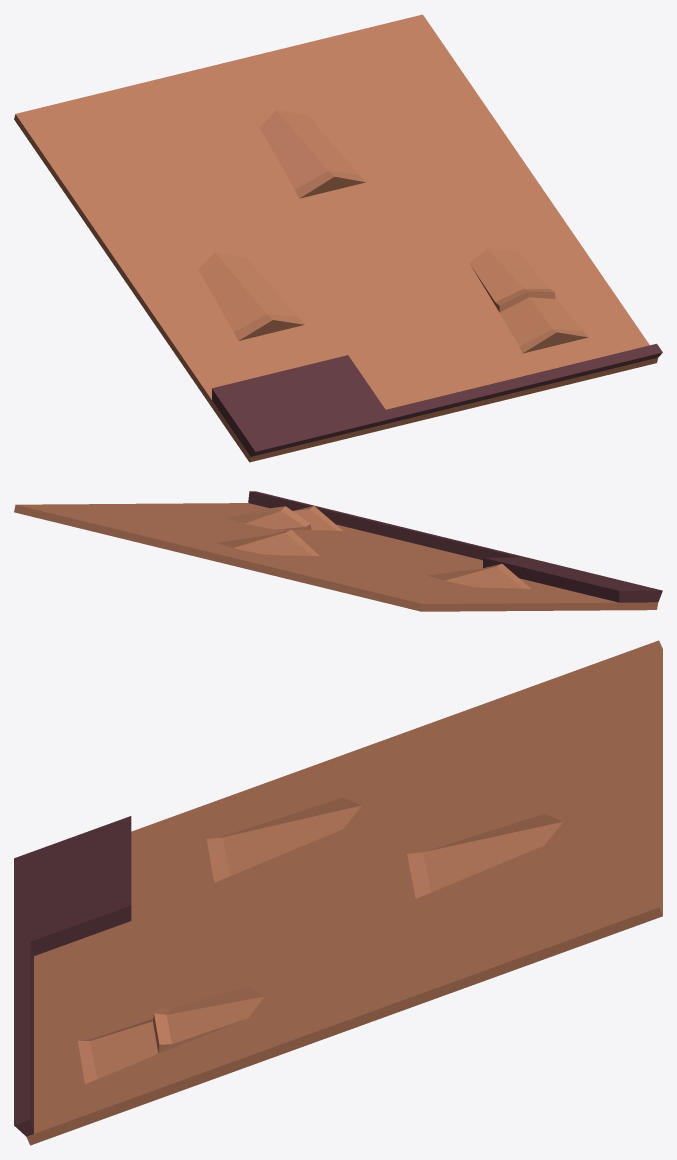
File: empire-roof-acroterion-platform-l-big-3m-empire.glb
3 renders of one model, top to bottom at view 1: azimuth 30°, elevation 25°; view 2: azimuth 150°, elevation 25°; view 3: azimuth 270°, elevation 25°, orthographic. The views are drawn at different scales.
Visible parts, largest first — view 1: SM_Roof_Acroterion_Platform_L_Big_3m_Empire; view 2: SM_Roof_Acroterion_Platform_L_Big_3m_Empire; view 3: SM_Roof_Acroterion_Platform_L_Big_3m_Empire.
Part boxes in pixels (x1,y1,x2,y2): SM_Roof_Acroterion_Platform_L_Big_3m_Empire: [14, 14, 662, 462]; SM_Roof_Acroterion_Platform_L_Big_3m_Empire: [14, 491, 662, 611]; SM_Roof_Acroterion_Platform_L_Big_3m_Empire: [14, 640, 662, 1145].
Size of the model in its own units: 3 by 1.25 by 3.08.
